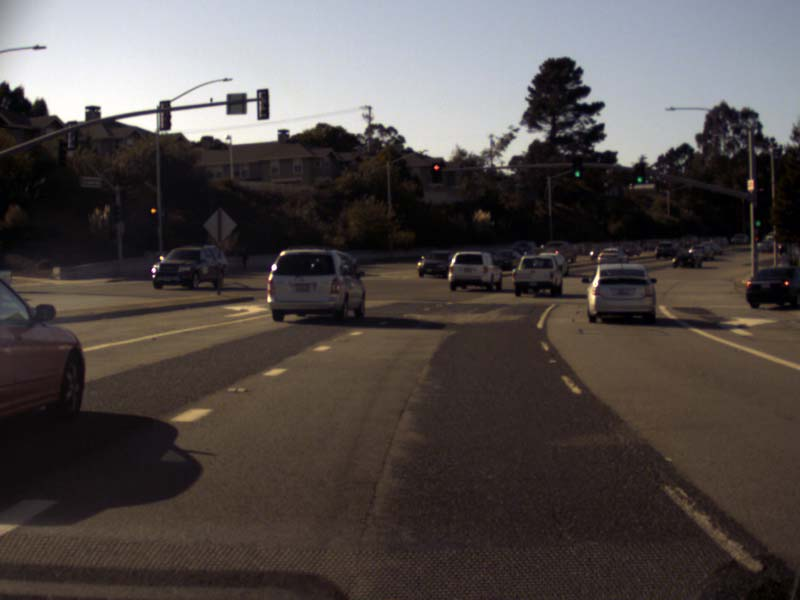Green: (572, 156, 582, 179), (635, 162, 644, 182), (753, 207, 761, 227)
Red: (430, 162, 440, 183), (149, 205, 156, 225)
